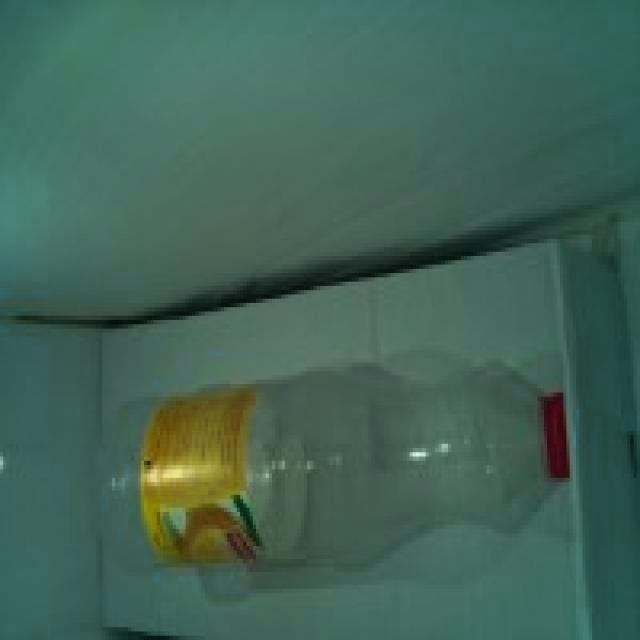bottle: (98, 362, 570, 575)
